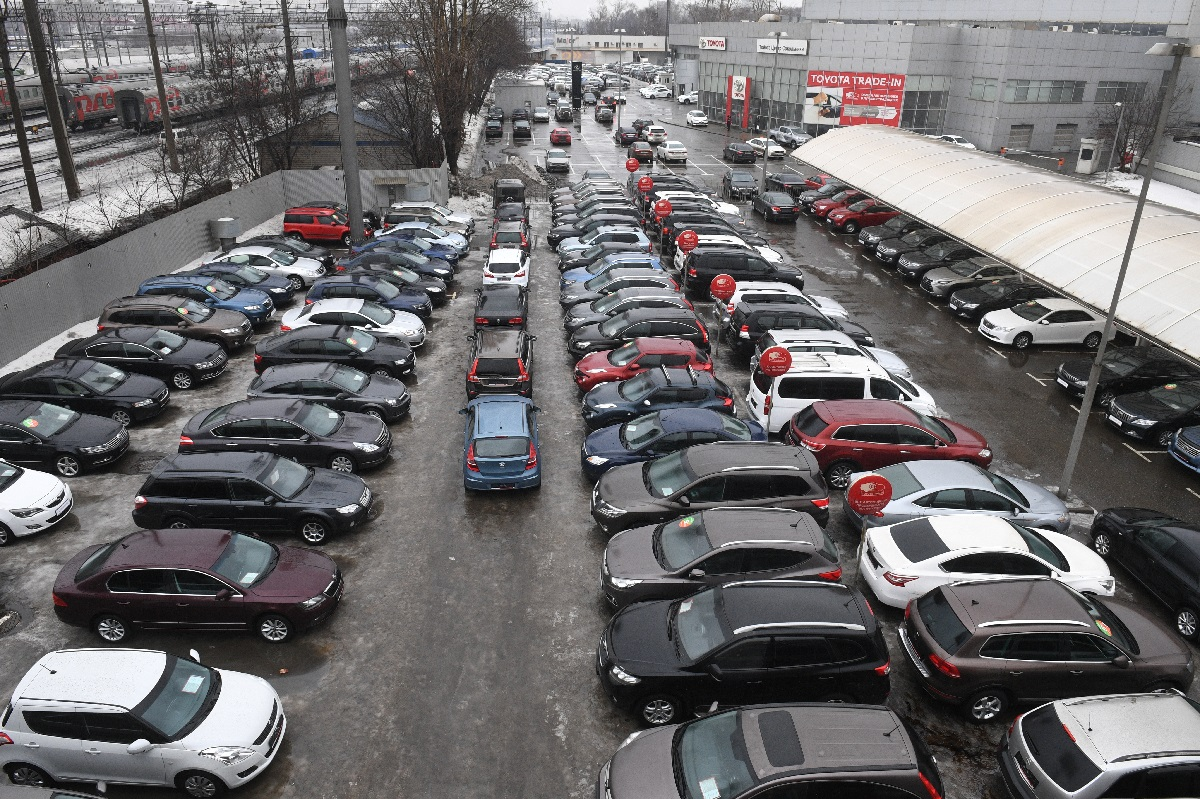Car: (897, 576, 1194, 722), (0, 649, 286, 798), (596, 581, 890, 725), (52, 530, 343, 644), (597, 704, 944, 799), (601, 509, 842, 608), (858, 516, 1115, 608), (591, 443, 830, 535), (133, 454, 373, 545), (998, 693, 1200, 799), (785, 399, 993, 491), (745, 347, 937, 435), (843, 460, 1070, 532), (178, 399, 392, 473), (1090, 507, 1200, 641), (581, 409, 766, 480), (0, 361, 170, 426), (55, 327, 227, 390), (0, 400, 129, 477), (247, 363, 412, 421), (582, 367, 736, 429), (749, 327, 913, 381), (1055, 347, 1200, 407), (97, 296, 253, 351), (253, 325, 416, 377), (461, 393, 542, 491), (573, 338, 713, 391), (137, 275, 278, 326), (281, 299, 427, 348), (569, 308, 711, 358), (679, 247, 805, 302), (978, 299, 1117, 348), (712, 281, 851, 328), (1105, 380, 1200, 448), (0, 460, 73, 546), (564, 288, 693, 333), (305, 274, 433, 319), (325, 263, 446, 307), (466, 326, 535, 401), (211, 245, 326, 289), (559, 269, 678, 309), (180, 264, 295, 305), (918, 257, 1027, 298), (949, 279, 1055, 321), (674, 234, 783, 273), (336, 247, 454, 281), (560, 252, 664, 290), (897, 240, 987, 282), (283, 207, 374, 247), (657, 209, 758, 245), (546, 214, 645, 250), (231, 235, 335, 269), (667, 223, 769, 257), (351, 234, 459, 266), (556, 225, 654, 258), (374, 222, 469, 255), (649, 200, 745, 232), (876, 228, 954, 266), (383, 209, 472, 242), (859, 214, 931, 251), (827, 199, 902, 234), (558, 242, 646, 271), (391, 201, 476, 231), (298, 200, 382, 230), (552, 203, 647, 229), (473, 286, 528, 330), (638, 181, 721, 210), (649, 190, 740, 216), (551, 194, 635, 220), (552, 185, 628, 211), (548, 178, 623, 204), (812, 189, 873, 218), (483, 249, 529, 287), (1168, 425, 1200, 475), (488, 221, 532, 257), (799, 182, 855, 210), (751, 191, 800, 223), (765, 173, 809, 202), (158, 127, 200, 153), (491, 178, 525, 209), (770, 125, 813, 149), (723, 170, 758, 198), (746, 138, 786, 159), (493, 203, 528, 226), (722, 142, 756, 163), (645, 174, 699, 187), (656, 140, 687, 162), (545, 148, 571, 173), (626, 171, 654, 193), (802, 174, 840, 190), (628, 141, 654, 162), (940, 134, 976, 149), (641, 126, 667, 144), (632, 118, 655, 136), (549, 128, 572, 145), (615, 126, 638, 143), (686, 109, 708, 126), (639, 84, 668, 96), (582, 170, 612, 181), (643, 88, 672, 99), (677, 90, 698, 105), (485, 120, 503, 137), (487, 107, 505, 123), (595, 108, 613, 123), (513, 119, 531, 134), (533, 107, 550, 122), (511, 109, 528, 123), (557, 106, 572, 121), (606, 78, 630, 87), (601, 96, 616, 110), (555, 100, 569, 115), (582, 93, 596, 106), (547, 91, 560, 105), (613, 92, 626, 104), (553, 83, 565, 96), (595, 105, 610, 115), (589, 87, 601, 98), (587, 78, 603, 86), (583, 85, 594, 93), (564, 82, 572, 90)
